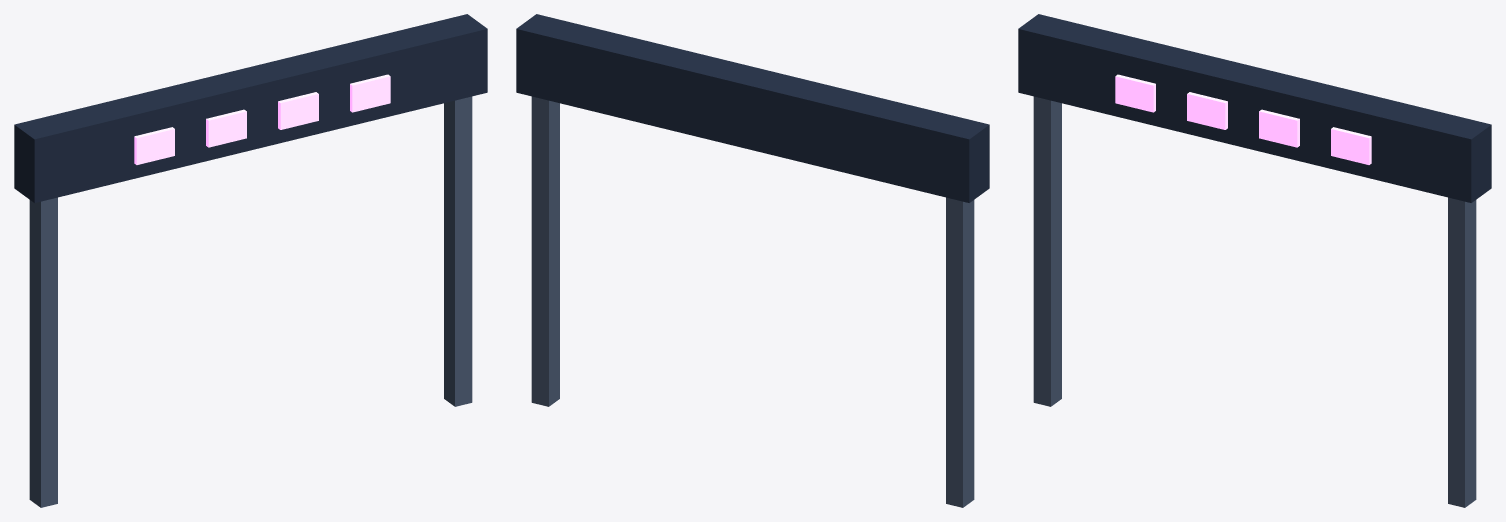
File: signal-frame.glb
The picture shows the model from 3 angles, left to right: view 1: azimuth 30°, elevation 25°; view 2: azimuth 150°, elevation 25°; view 3: azimuth 330°, elevation 25°; orthographic projection.
Parts seen in each view (by area): view 1: signal-frame; view 2: signal-frame; view 3: signal-frame.
Part boxes in pixels (x1,y1,x2,y2): signal-frame: (14, 14, 487, 507); signal-frame: (516, 14, 989, 507); signal-frame: (1018, 14, 1491, 507).
Bounding box in the file's own units: 5.8 × 4.58 × 0.5075.
